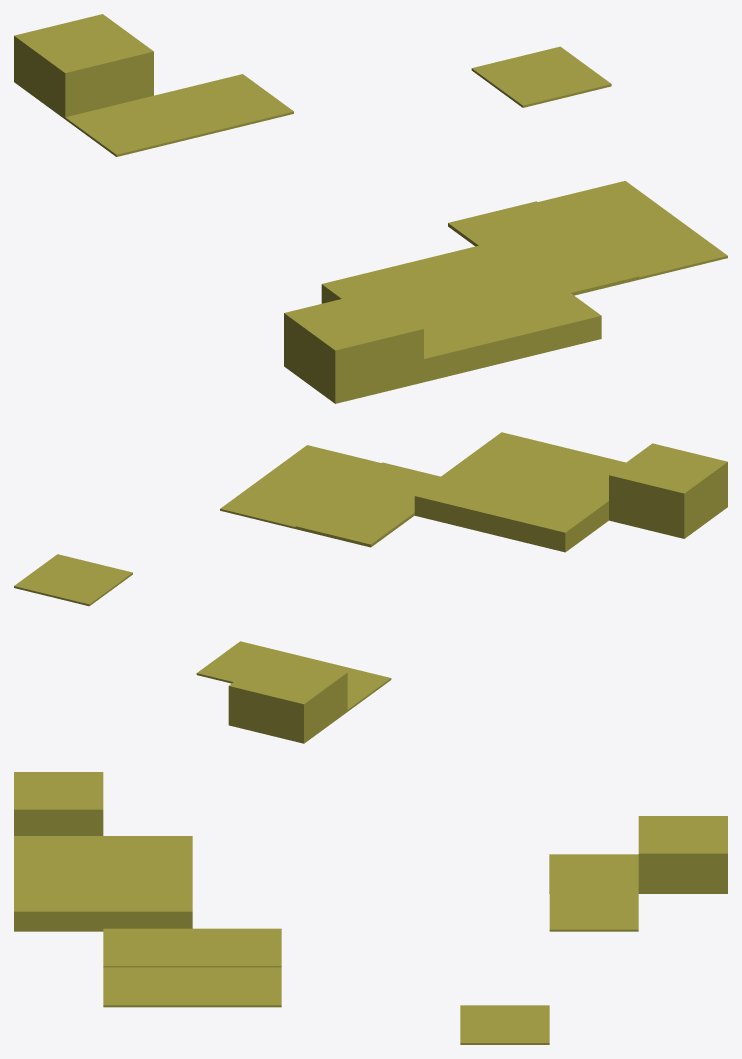
File: SM_Terrain_Bare_05.fbx
The picture shows the model from 3 angles, top to bottom: view 1: azimuth 30°, elevation 25°; view 2: azimuth 150°, elevation 25°; view 3: azimuth 270°, elevation 25°; orthographic projection. The views are drawn at different scales.
Parts seen in each view (by area): view 1: SM_Tile_Bare_05; view 2: SM_Tile_Bare_05; view 3: SM_Tile_Bare_05.
Boxes of the visible parts, left/top/right/bottom form: SM_Tile_Bare_05: left=14, top=14, right=727, bottom=403; SM_Tile_Bare_05: left=14, top=432, right=727, bottom=743; SM_Tile_Bare_05: left=14, top=772, right=727, bottom=1044.
Bounding box in the file's own units: 2400 × 230 × 3200.
